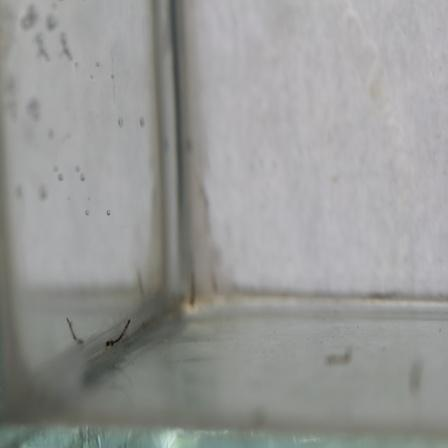Jentik-Nyamuk: (102, 317, 135, 350)
